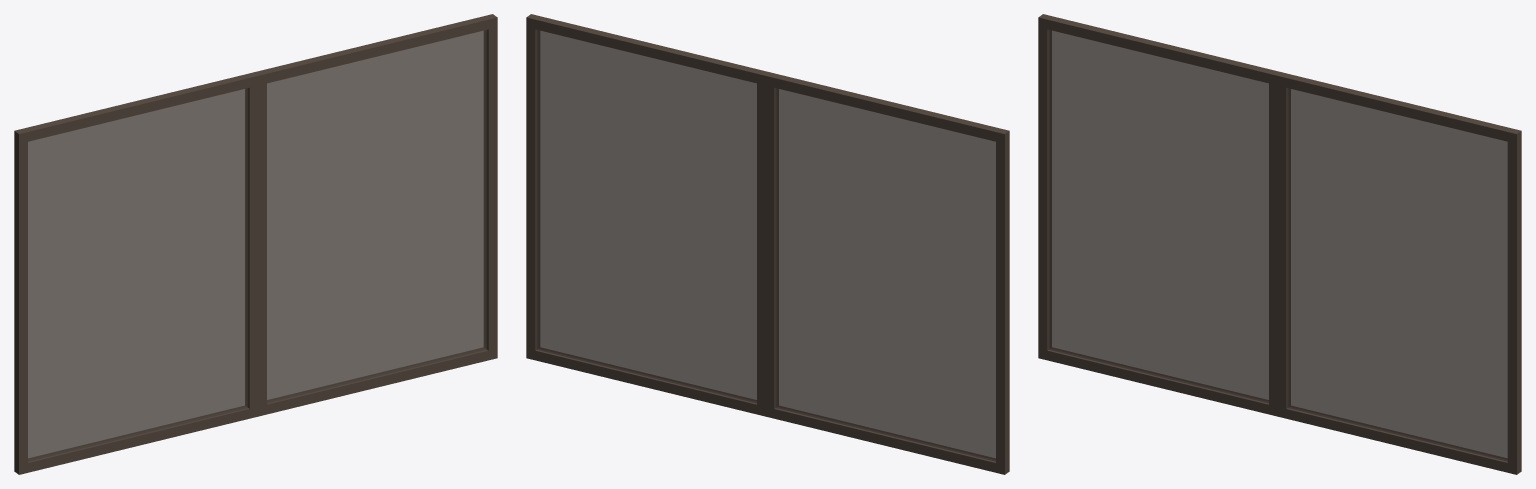
The model's file is Door_Entrance.glb.
The picture shows the model from 3 angles, left to right: view 1: azimuth 30°, elevation 25°; view 2: azimuth 150°, elevation 25°; view 3: azimuth 330°, elevation 25°; orthographic projection.
Visible parts, largest first — view 1: DoorLeft, DoorRight; view 2: DoorLeft, DoorRight; view 3: DoorRight, DoorLeft.
Part boxes in pixels (bbox=[...]): DoorLeft: bbox=[14, 72, 258, 474]; DoorRight: bbox=[254, 14, 497, 416]; DoorLeft: bbox=[765, 72, 1009, 474]; DoorRight: bbox=[526, 14, 769, 416]; DoorRight: bbox=[1277, 72, 1521, 474]; DoorLeft: bbox=[1038, 14, 1281, 416].
Size of what is drawn, in the model's own units: 7.96 by 5.41 by 0.1366.
2 materials, 2 textured.
